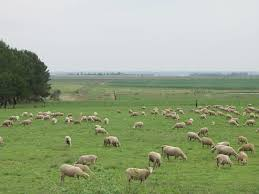sheep: (58, 163, 90, 186), (126, 165, 155, 185), (69, 162, 98, 179), (160, 146, 187, 163), (75, 151, 104, 165), (102, 136, 125, 149), (236, 149, 254, 165), (217, 153, 236, 168), (146, 152, 166, 166), (215, 144, 236, 157), (200, 137, 218, 151), (60, 134, 75, 150), (229, 117, 247, 130), (235, 136, 251, 148), (168, 121, 187, 131), (184, 129, 201, 140), (240, 143, 256, 154), (1, 117, 17, 128), (91, 115, 107, 125), (103, 117, 117, 127), (93, 126, 108, 135), (244, 116, 256, 126), (215, 108, 225, 118), (20, 119, 34, 126), (48, 116, 60, 124), (242, 105, 254, 113), (132, 121, 145, 128), (62, 115, 72, 124), (165, 112, 175, 121), (164, 106, 174, 115), (198, 111, 208, 120), (216, 104, 228, 111), (186, 116, 194, 126), (205, 109, 215, 117), (195, 104, 205, 112), (9, 112, 18, 120), (36, 114, 46, 121), (172, 108, 182, 115), (151, 108, 160, 115), (21, 112, 31, 118), (129, 109, 137, 116), (81, 114, 90, 120), (28, 114, 36, 119)
